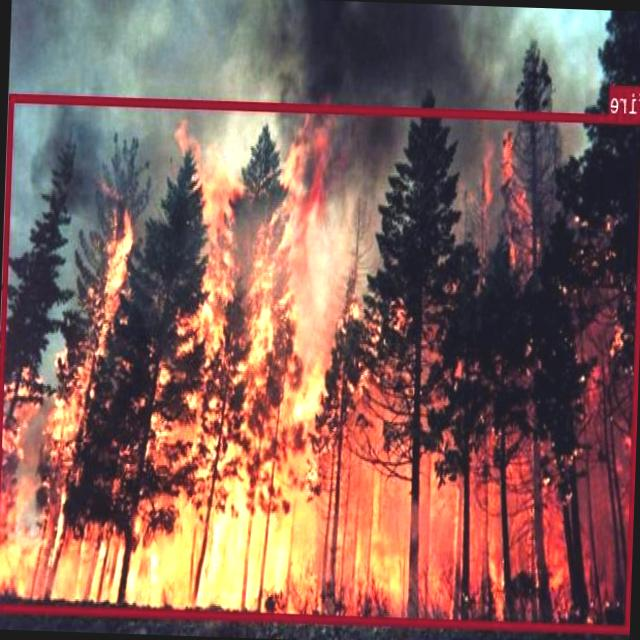fire: (0, 91, 640, 631)
